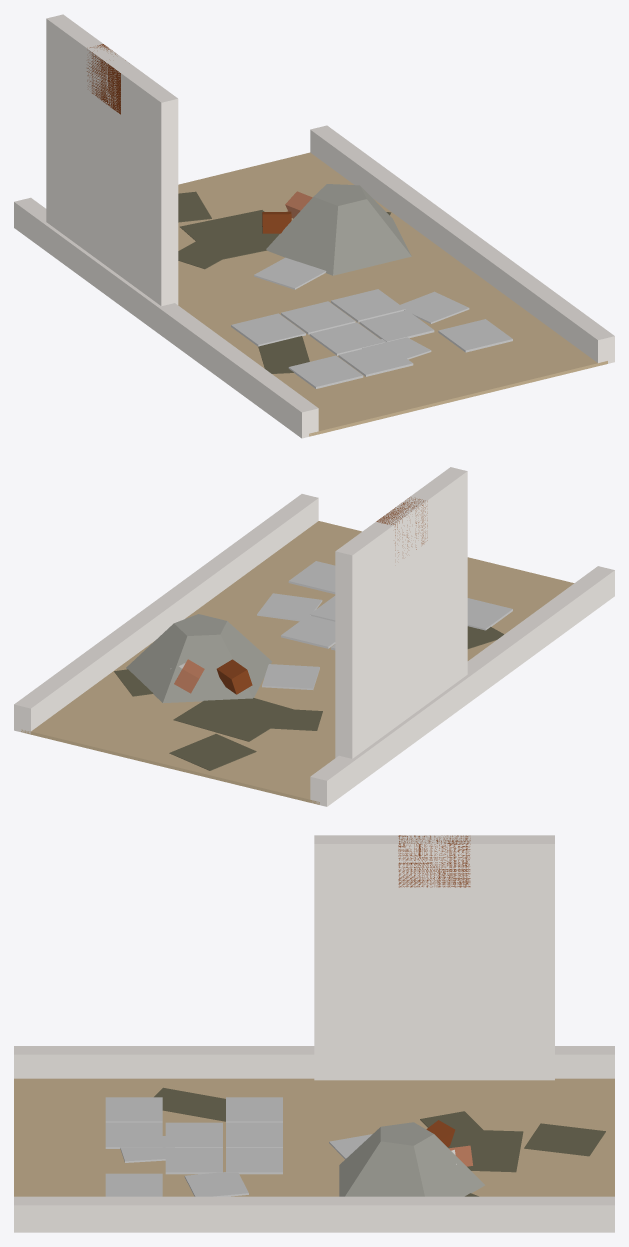
Rendered from SM_Solar_v1_Medianera_LOD1.fbx.
3 renders of one model, top to bottom at view 1: azimuth 30°, elevation 25°; view 2: azimuth 150°, elevation 25°; view 3: azimuth 270°, elevation 25°, orthographic. The views are drawn at different scales.
Visible parts, largest first — view 1: SM_sagunto_vivo_v6_LOD1; view 2: SM_sagunto_vivo_v6_LOD1; view 3: SM_sagunto_vivo_v6_LOD1.
Part boxes in pixels (<box>): SM_sagunto_vivo_v6_LOD1: <box>14,14,614,438</box>; SM_sagunto_vivo_v6_LOD1: <box>14,467,614,806</box>; SM_sagunto_vivo_v6_LOD1: <box>14,835,614,1232</box>.
Bounding box in the file's own units: 6.28 × 4.4 × 10.
